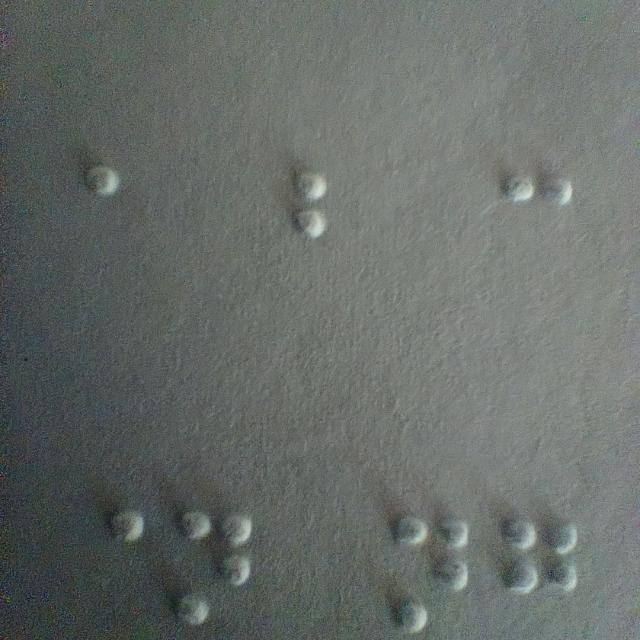a: (77, 158, 155, 268)
b: (294, 168, 372, 278)
c: (499, 169, 576, 279)
dot_4: (69, 506, 146, 616)
enye: (175, 506, 253, 627)
g: (500, 514, 578, 634)
n: (391, 513, 470, 633)
